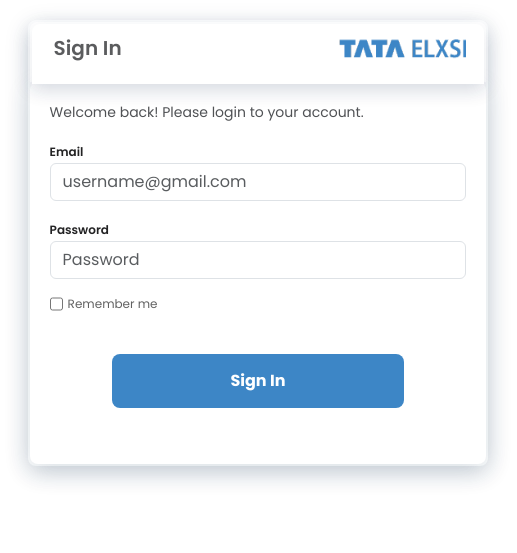
Signin Component › displays error messages on empty form submission
Click the button with test id "signin-button" at (258, 381), box [112,354,404,408]
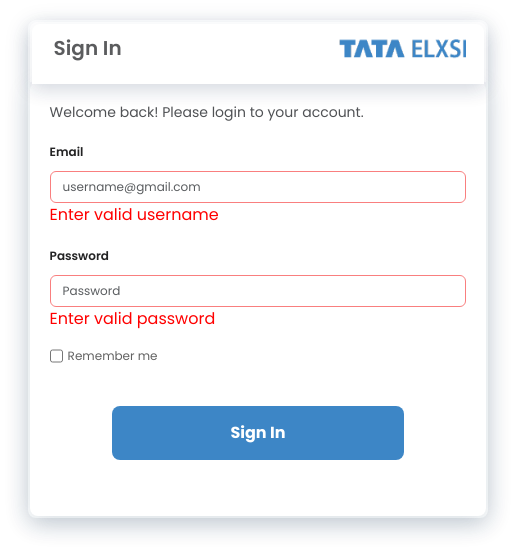
Expected: the text "Enter valid username" is shown, [50,203,219,226]
Expected: the text "Enter valid password" is shown, [50,307,215,330]
